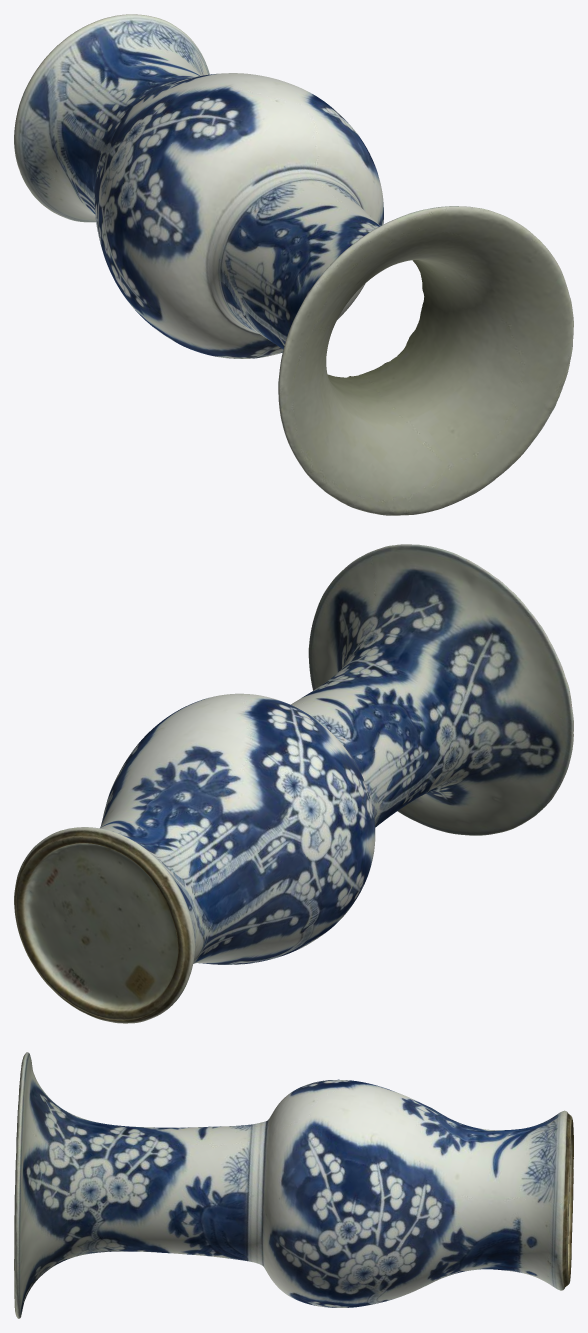
File: f1986_19-mesh-smooth-textured-200k-1024-web.glb
The picture shows the model from 3 angles, top to bottom: view 1: azimuth 30°, elevation 25°; view 2: azimuth 150°, elevation 25°; view 3: azimuth 270°, elevation 25°; orthographic projection. The views are drawn at different scales.
Size of the model in its own units: 0.2218 by 0.2215 by 0.4641.
1 material, 1 textured.
